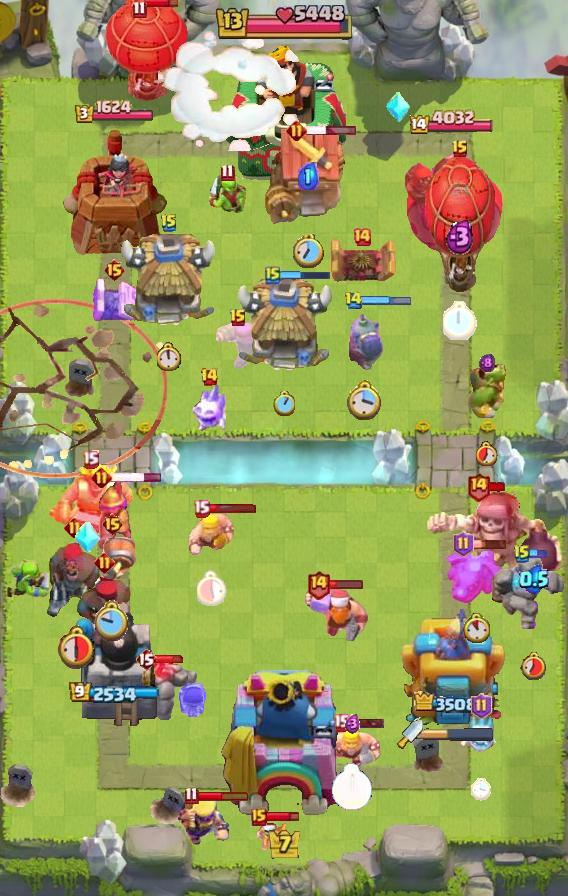bar: (197, 790, 250, 802), (279, 269, 331, 281), (360, 295, 411, 307), (110, 472, 163, 483), (305, 125, 357, 136), (207, 503, 257, 514), (265, 810, 300, 823), (348, 717, 385, 729), (471, 538, 508, 550), (328, 579, 364, 590), (154, 654, 186, 664), (144, 0, 179, 9), (488, 481, 507, 493), (529, 548, 548, 559)
bar-level: (306, 569, 331, 600), (466, 471, 491, 502), (101, 512, 124, 536), (103, 258, 126, 282), (471, 693, 492, 719), (453, 531, 474, 557), (135, 647, 157, 671), (94, 552, 115, 573), (64, 517, 85, 538), (91, 467, 112, 488), (286, 120, 307, 141), (352, 227, 372, 247), (200, 367, 219, 387), (344, 291, 363, 310), (513, 544, 531, 564), (229, 308, 247, 328), (160, 213, 178, 233), (451, 139, 469, 159), (333, 713, 350, 732), (193, 499, 210, 518), (82, 450, 99, 469), (265, 265, 281, 285), (251, 808, 267, 826), (184, 786, 199, 805), (220, 163, 235, 182), (132, 0, 147, 19)
barbarian: (320, 724, 384, 770), (189, 514, 235, 556)
barbarian-evolution: (176, 792, 232, 849)
bomber-evolution: (346, 305, 384, 373)
cannoneer-tower: (69, 599, 159, 731), (403, 138, 503, 256)
clock: (331, 763, 373, 811), (54, 624, 95, 669), (347, 378, 384, 420), (95, 600, 130, 641), (443, 301, 477, 340), (197, 570, 228, 606), (293, 234, 324, 268), (520, 651, 548, 680), (463, 613, 490, 643), (157, 342, 182, 371), (476, 441, 498, 466), (273, 391, 295, 416), (471, 778, 491, 801)
dagger-duchess-tower: (401, 601, 505, 731)
dagger-duchess-tower-bar: (423, 727, 495, 741)
electro-dragon: (442, 548, 510, 604)
elixir: (445, 218, 475, 255), (519, 564, 549, 594), (298, 162, 319, 190), (479, 353, 495, 373), (345, 714, 360, 734)
firecracker: (213, 318, 263, 372)
goblin: (5, 555, 53, 600), (206, 175, 248, 217)
goblin-brawler: (465, 362, 509, 418)
golemite: (492, 557, 568, 635), (123, 655, 199, 723)
hunter: (46, 538, 102, 620), (74, 576, 134, 648)
ice-spirit: (459, 714, 504, 756)
ice-spirit-evolution: (189, 382, 229, 434)
ice-spirit-evolution-symbol: (75, 522, 101, 554), (385, 91, 411, 123)
king-tower: (219, 670, 349, 826), (223, 44, 346, 181)
king-tower-bar: (213, 5, 355, 43)
lumberjack: (302, 584, 368, 648)
musketeer: (94, 477, 134, 553)
queen-tower: (59, 128, 169, 256)
skeleton: (256, 818, 286, 850)
skeleton-evolution: (176, 683, 207, 723)
tesla: (327, 236, 397, 286), (88, 274, 140, 324)
tower-bar: (410, 109, 496, 137), (74, 99, 155, 125), (69, 682, 160, 705), (412, 691, 494, 714)
wall-breaker: (87, 534, 137, 598)
